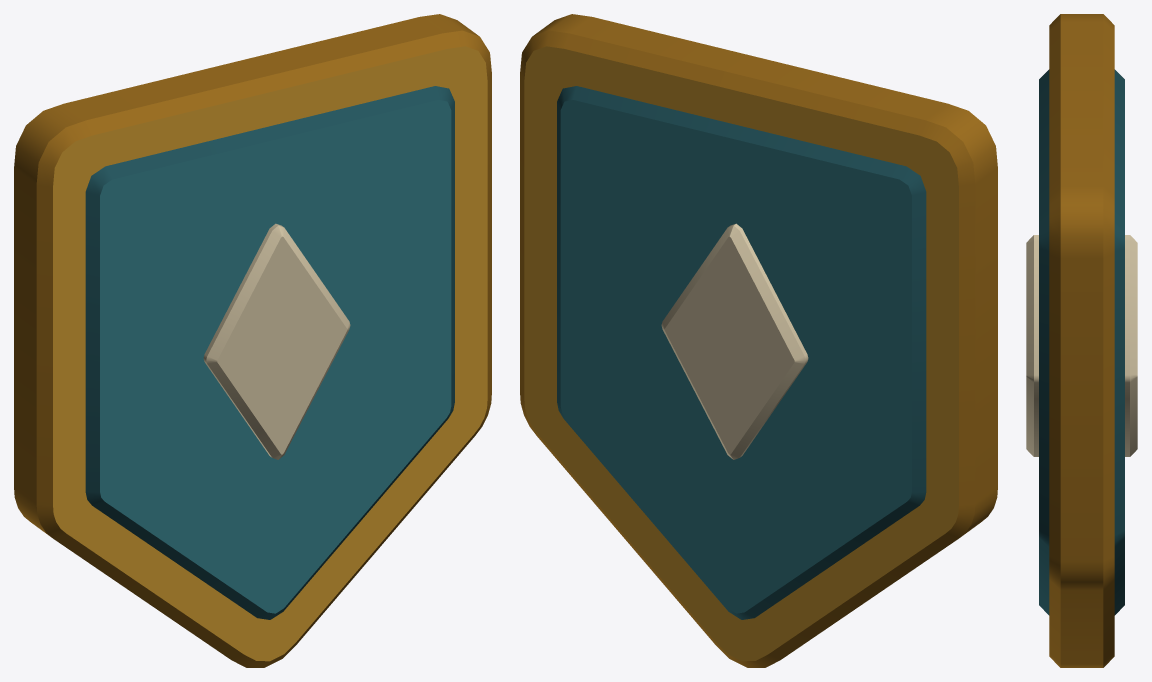
File: Badge_19.glb
3 views of the same model, side by side, from view 1: azimuth 30°, elevation 25°; view 2: azimuth 150°, elevation 25°; view 3: azimuth 270°, elevation 25° (orthographic). The views are drawn at different scales.
Visible parts, largest first — view 1: Badge_19; view 2: Badge_19; view 3: Badge_19.
Boxes of the visible parts, box(x1,y1,x2,y2) form: Badge_19: box(14, 14, 491, 667); Badge_19: box(520, 14, 997, 667); Badge_19: box(1026, 14, 1137, 667).
Size of the model in its own units: 1.97 by 2.45 by 0.44.
